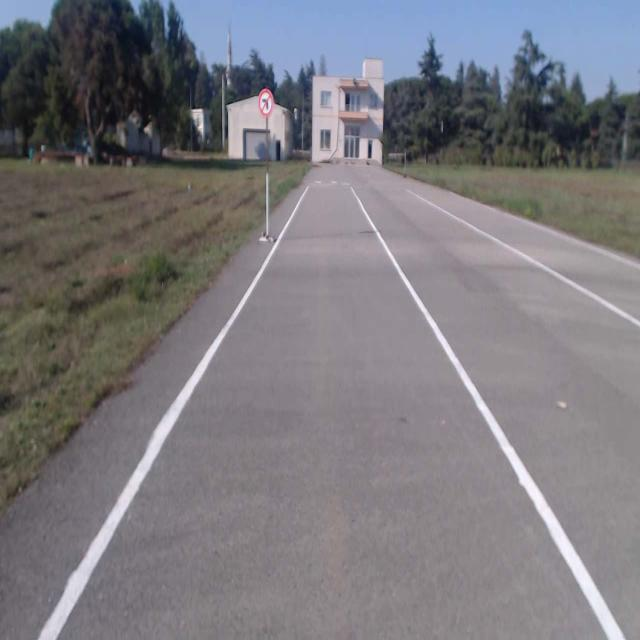soladonulmez: (258, 88, 273, 116)
